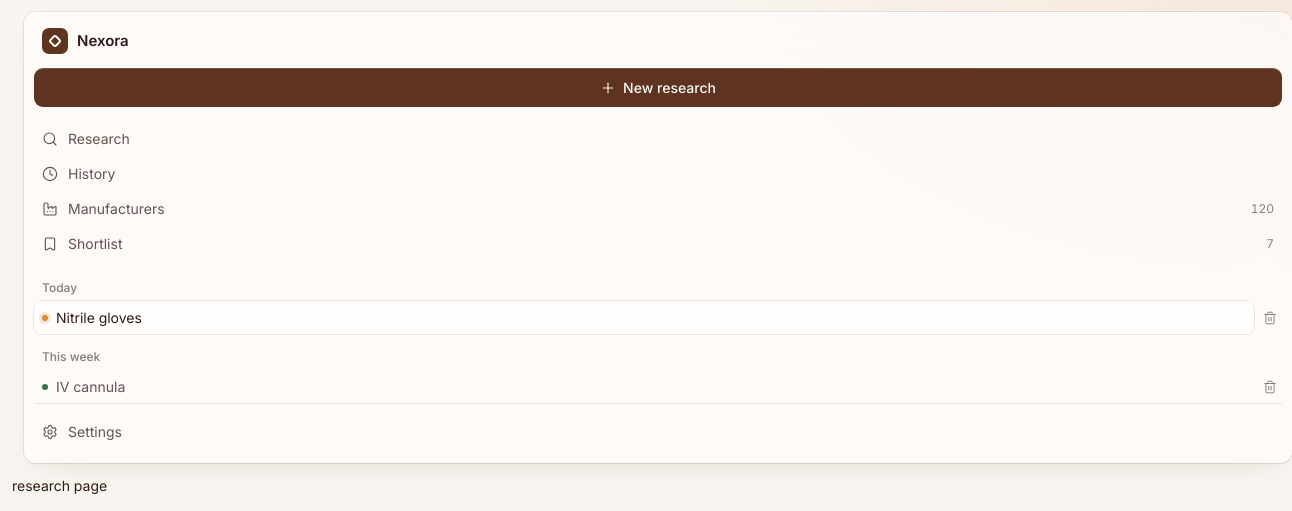
Sidebar delete › deleting the open research navigates home
Click the button named "Delete Nitrile gloves": (1270, 318) 1258,306 -> 1282,330
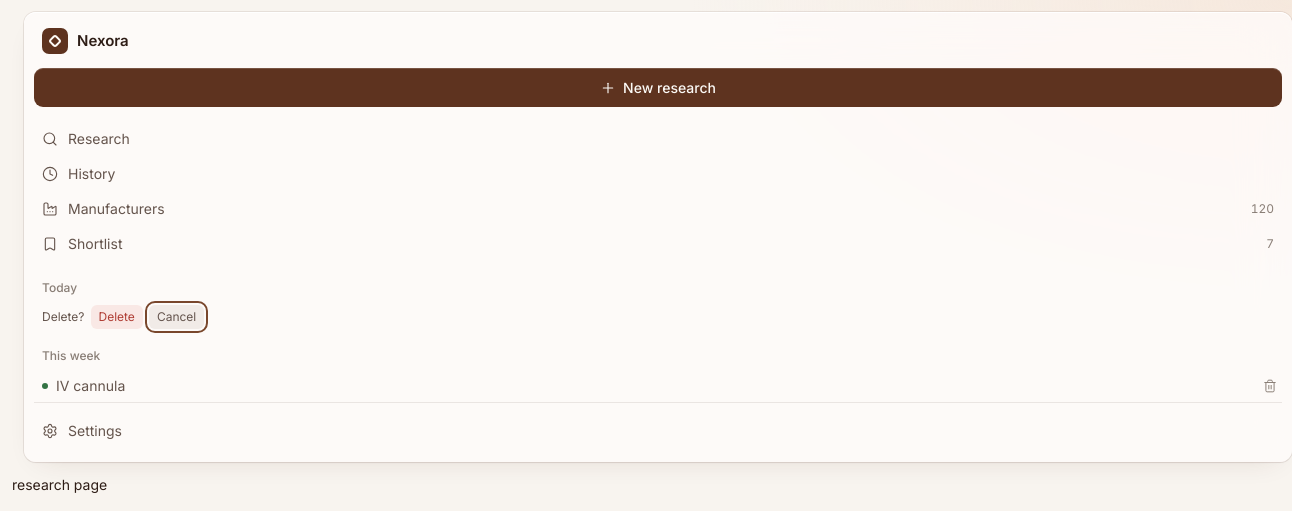
Click the button "Delete": (117, 317) 90,305 -> 143,329
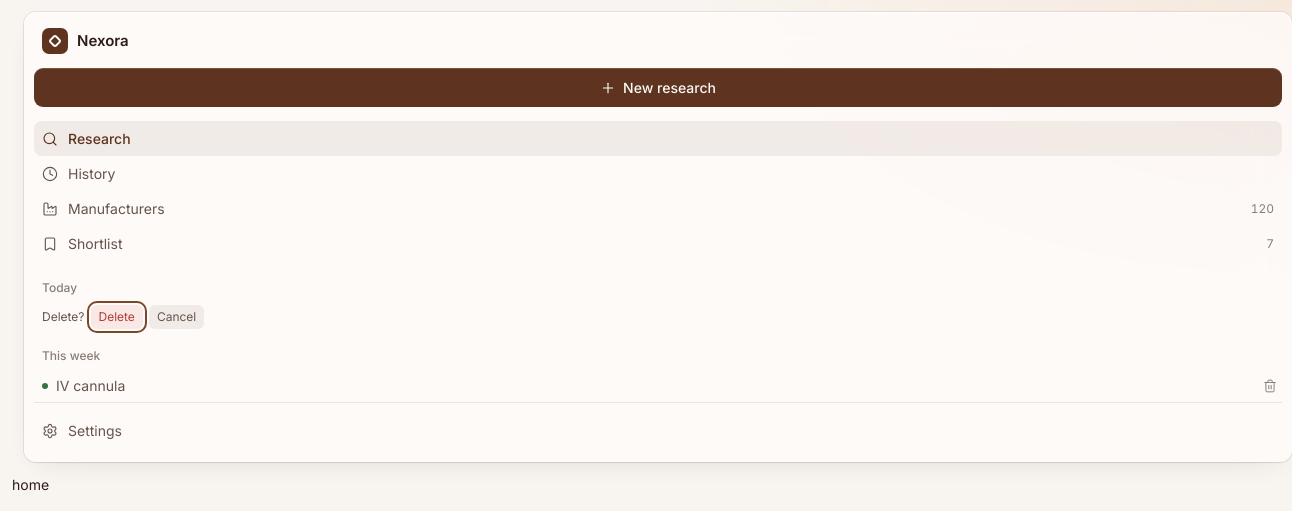
Expected: the text "home" is shown, 12,476 -> 49,493
